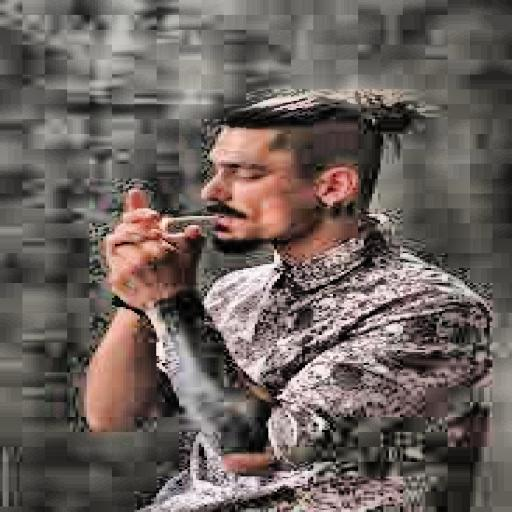fire: (154, 210, 168, 233)
